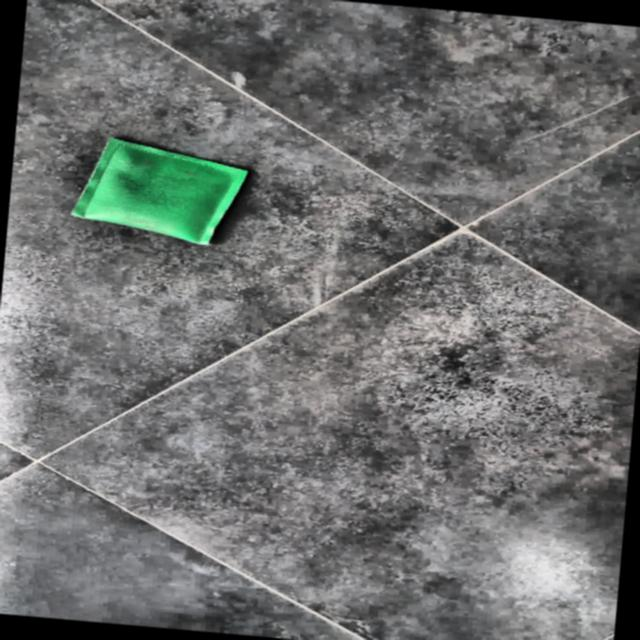payload: (73, 138, 248, 245)
